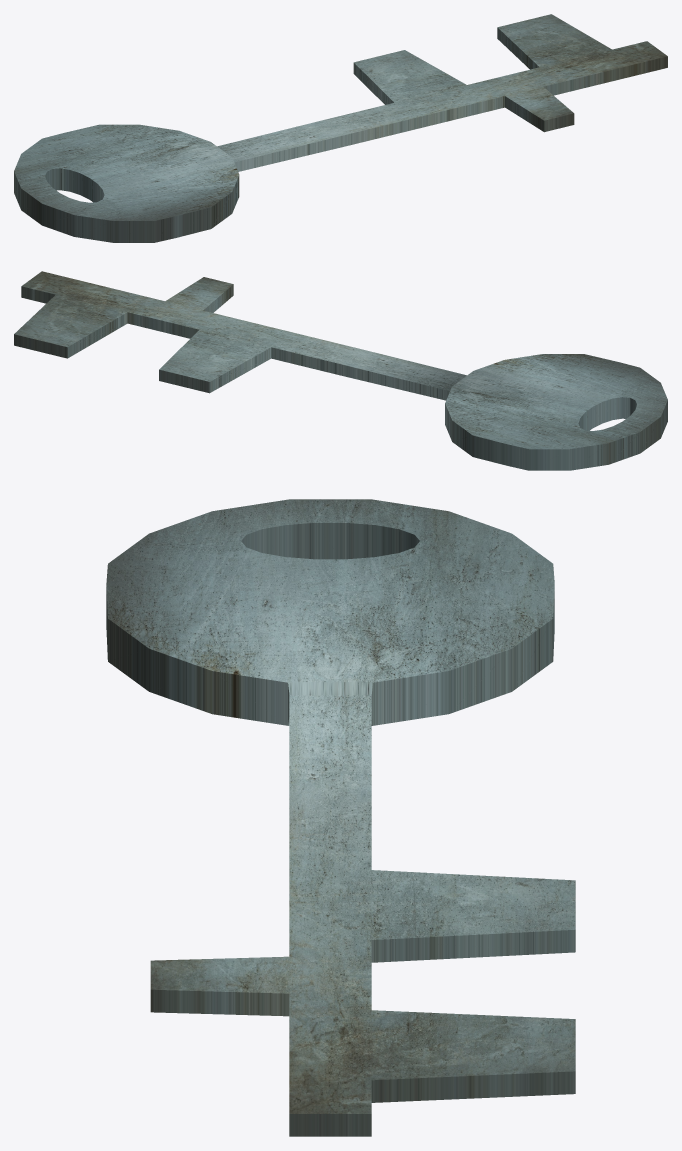
File: key.fbx
The picture shows the model from 3 angles, top to bottom: view 1: azimuth 30°, elevation 25°; view 2: azimuth 150°, elevation 25°; view 3: azimuth 270°, elevation 25°; orthographic projection. The views are drawn at different scales.
Parts seen in each view (by area): view 1: Cylinder001; view 2: Cylinder001; view 3: Cylinder001.
Boxes of the visible parts, x1=… form: Cylinder001: x1=14, y1=14, x2=667, y2=242; Cylinder001: x1=14, y1=271, x2=667, y2=470; Cylinder001: x1=106, y1=499, x2=575, y2=1136.
Size of the model in its own units: 5.2 by 0.1735 by 1.71.
